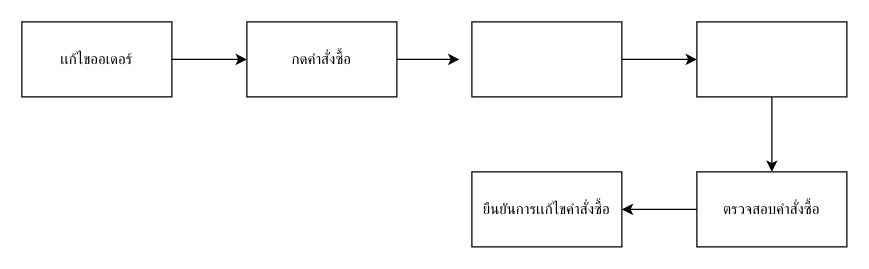
Image size: 869x269. Some labels were removed from this diagram. The centre of each missing label's shape, as x and y in pixels:
"กดปุ่มเเก้ไขหรือยกเลิกออเดอร์" goes at point (546, 59).
"กดเเก้ไขออเดอร์" goes at point (771, 59).
